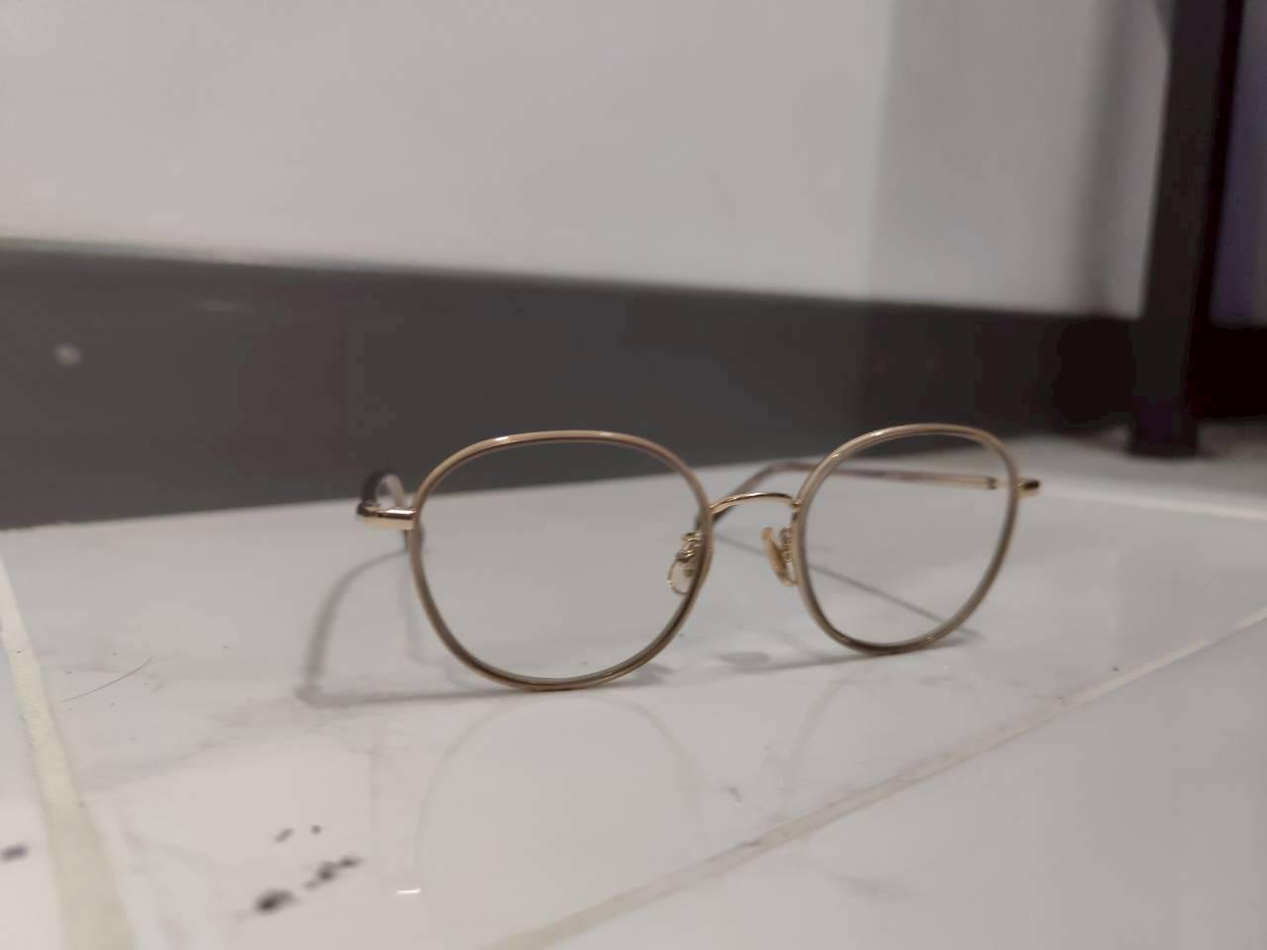glasses: (350, 400, 1063, 704)
